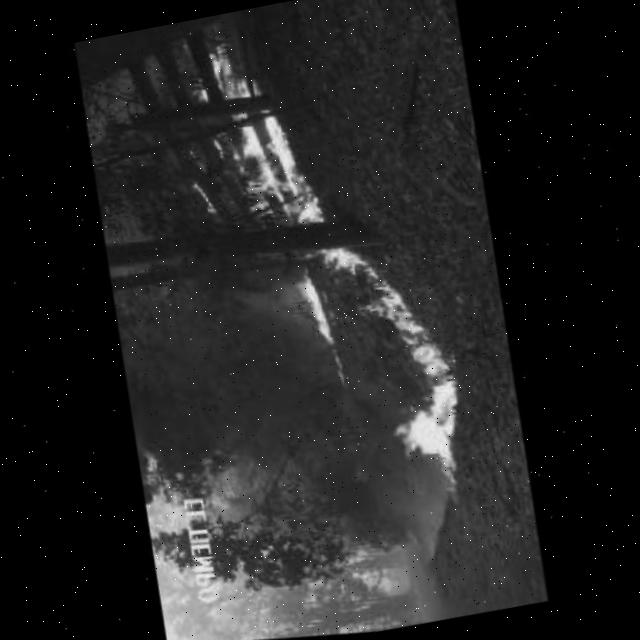fire: (339, 266, 493, 491), (219, 98, 341, 239), (303, 237, 385, 291), (212, 39, 272, 104), (295, 271, 345, 349), (195, 176, 229, 217), (329, 348, 355, 389)
